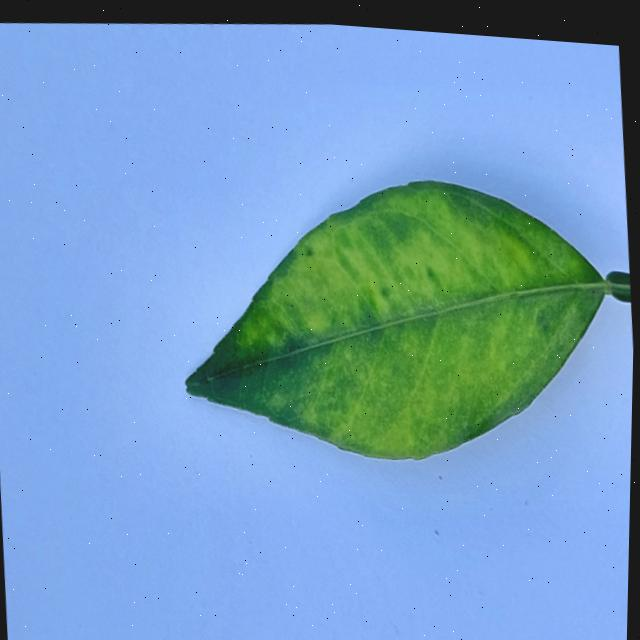greening: (186, 180, 631, 458)
